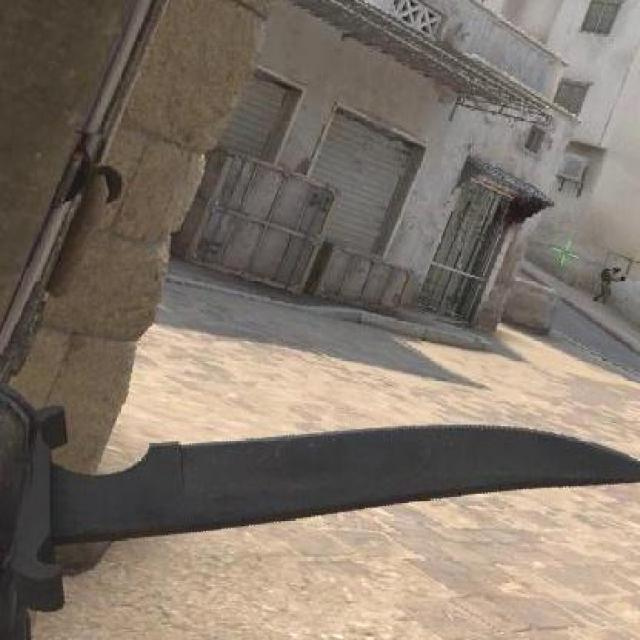CT-Body: (612, 266, 622, 276)
CT-Head: (596, 263, 624, 303)
